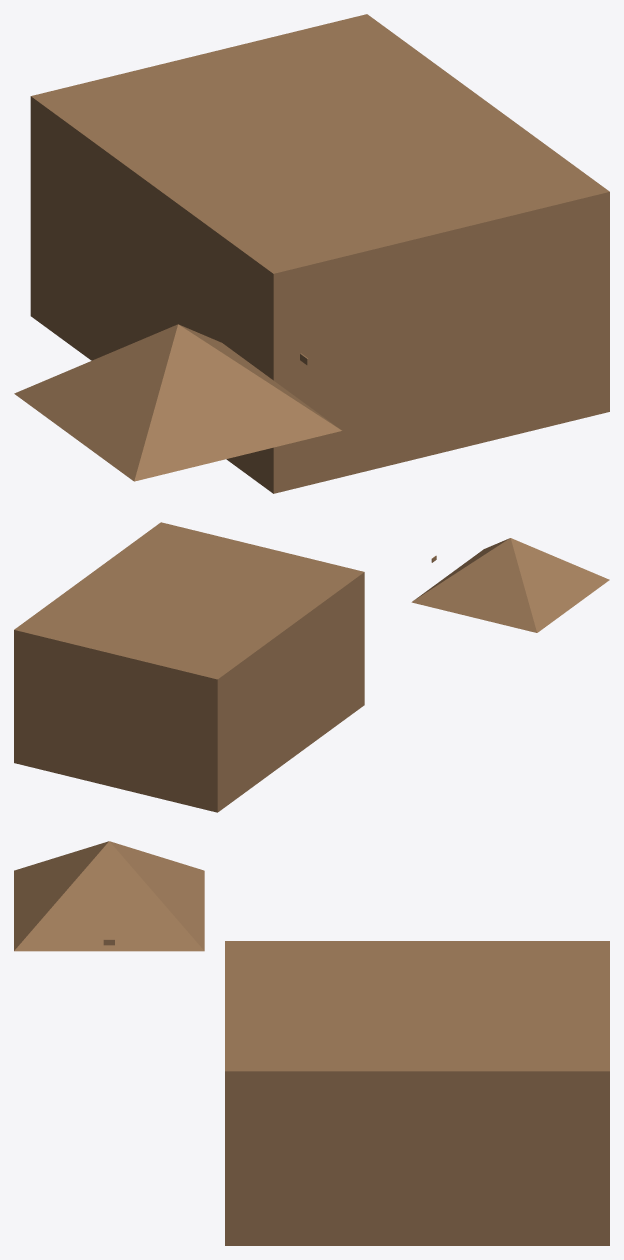
File: Tavern.fbx
3 views of the same model, one above another, from view 1: azimuth 30°, elevation 25°; view 2: azimuth 150°, elevation 25°; view 3: azimuth 270°, elevation 25° (orthographic). The views are drawn at different scales.
Visible parts, largest first — view 1: Tavern; view 2: Tavern; view 3: Tavern.
Part boxes in pixels (x1,y1,x2,y2): Tavern: (14,14,609,493); Tavern: (14,522,609,812); Tavern: (14,841,609,1245).
Bounding box in the file's own units: 14.47 × 6 × 15.47.
